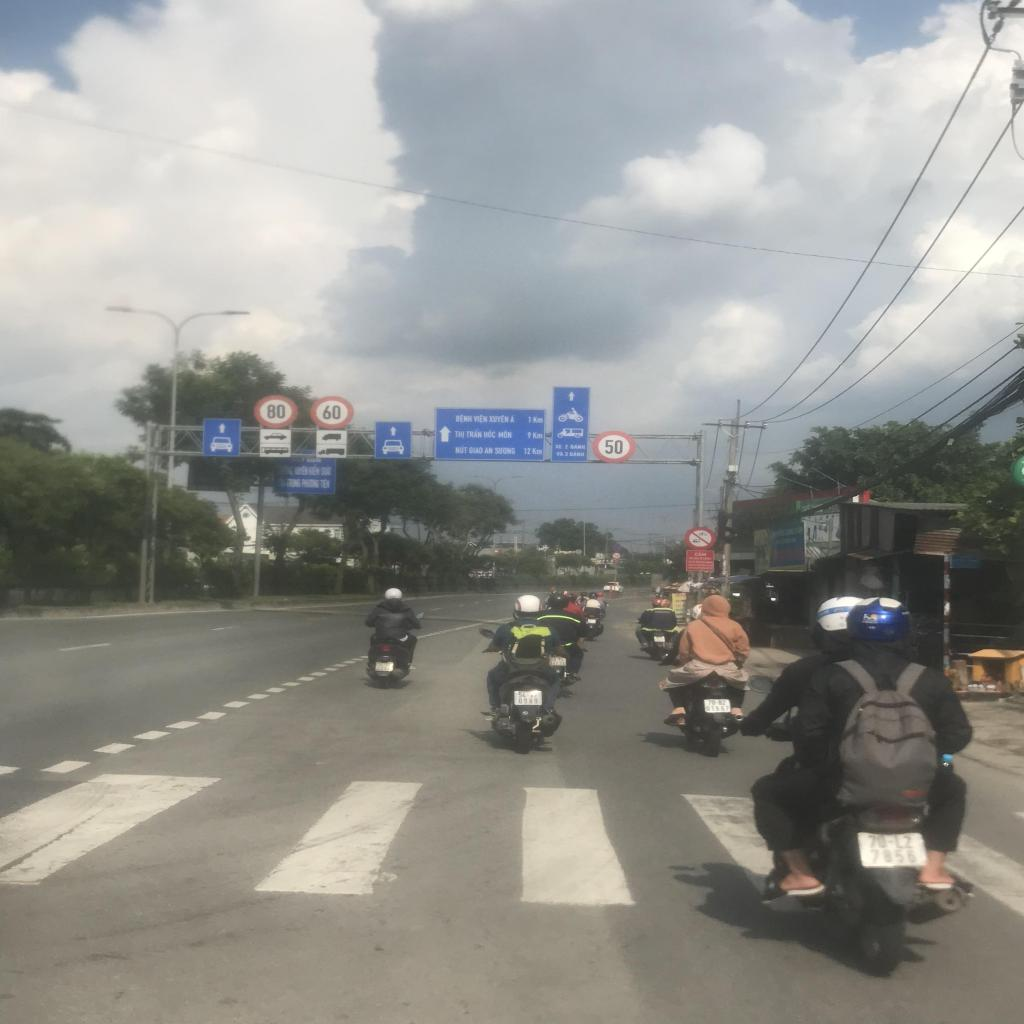cam_cac_loai_xe_3_banh: (684, 527, 716, 550)
cam_dung_xe_va_do_xe: (612, 545, 620, 552)
cam_xe_2_banh_va_xe_3_banh_co_dong_co: (612, 552, 622, 560)
duong_cho_xe_o_to: (203, 419, 240, 456), (376, 422, 412, 459)
khac: (434, 408, 546, 461), (552, 388, 588, 462), (260, 442, 292, 458), (316, 430, 347, 445), (259, 429, 291, 443), (315, 444, 347, 458)
toc_do_toi_da_50: (592, 430, 636, 464)
toc_do_toi_da_60: (310, 396, 354, 429)
toc_do_toi_da_80: (254, 394, 297, 428)
